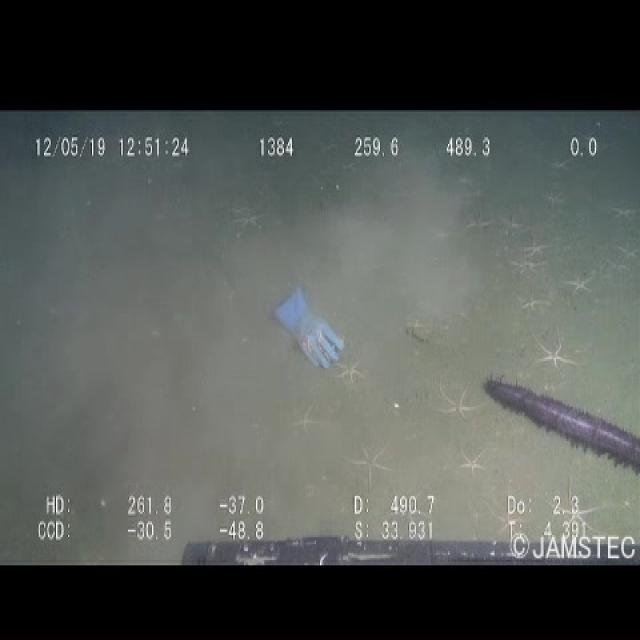plastic: (264, 272, 343, 373)
